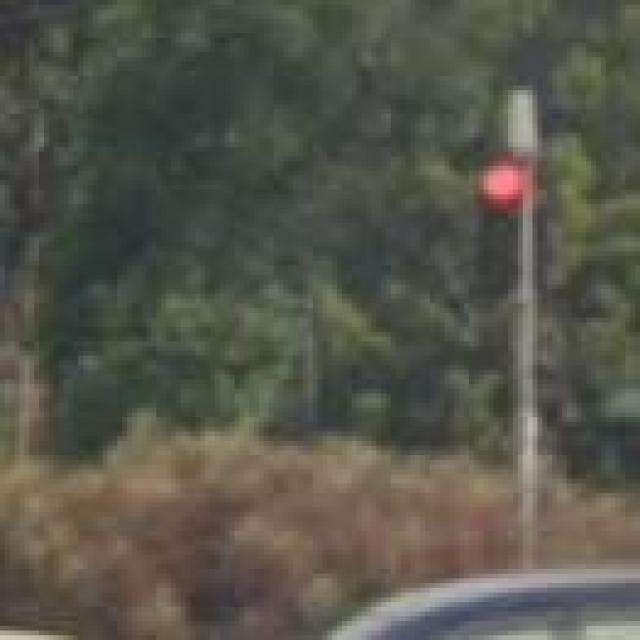red_light: (474, 152, 528, 290)
